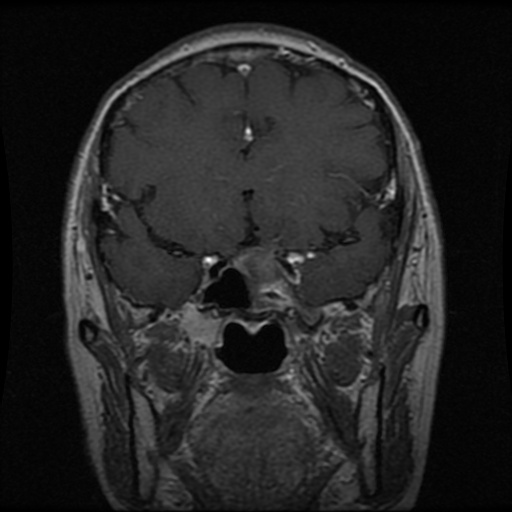pituitary: (233, 245, 280, 288)
